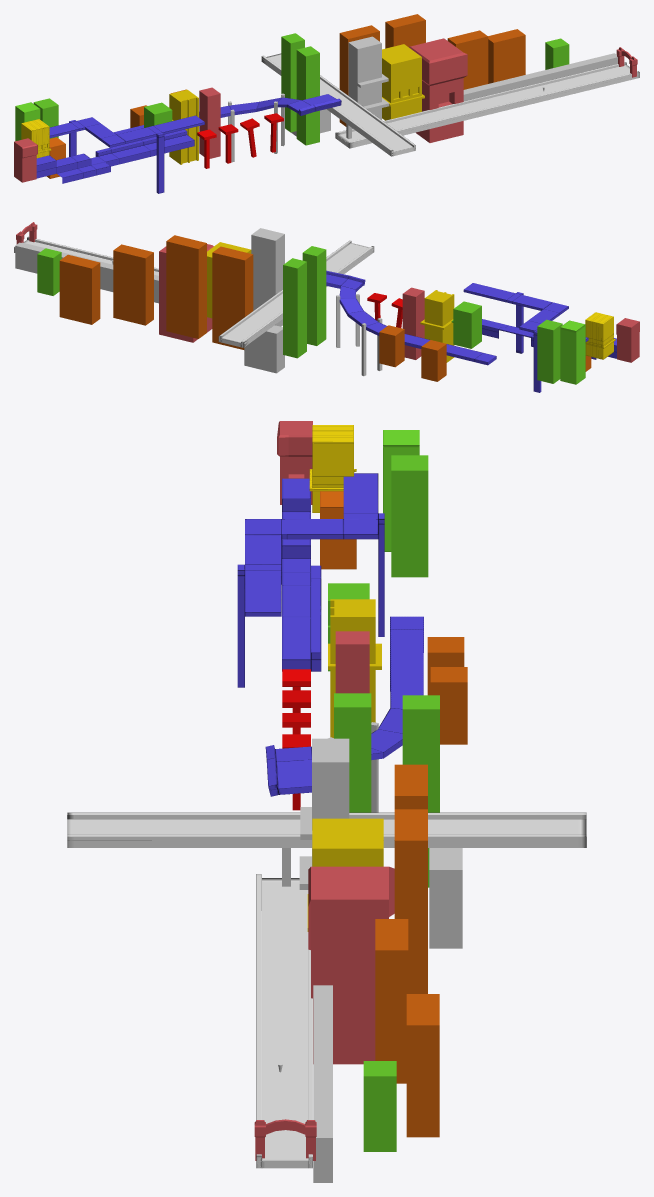
File: city stage.fbx
The picture shows the model from 3 angles, top to bottom: view 1: azimuth 30°, elevation 25°; view 2: azimuth 150°, elevation 25°; view 3: azimuth 270°, elevation 25°; orthographic projection. The views are drawn at different scales.
Visible parts, largest first — view 1: Cube.033, Cube.035, Cube, Cube.045, Cube.024, Cube.034, Cube.032, Cube.022, Cube.040, Cube.043, Cube.017, Cube.042 (+18 smaller); view 2: Cube.037, Cube.036, Cube.042, Cube.043, Cube.024, Cube.023, Cube.045, Cube.017, Cube.032, Cube.022, Cube.027, Cube.015 (+16 smaller); view 3: Cube.033, Cube.024, Cube.035, Cube.045, Cube.017, Cube, Cube.037, Cube.042, Cube.043, Cube.028, Cube.032, Cube.040 (+15 smaller).
Part boxes in pixels (left/top/right/bottom): Cube.033: left=335, top=62, right=639, bottom=148; Cube.035: left=408, top=38, right=467, bottom=142; Cube: left=36, top=129, right=194, bottom=183; Cube.045: left=49, top=115, right=204, bottom=193; Cube.024: left=261, top=53, right=415, bottom=156; Cube.034: left=382, top=44, right=424, bottom=120; Cube.032: left=348, top=36, right=389, bottom=128; Cube.022: left=296, top=46, right=319, bottom=145; Cube.040: left=463, top=53, right=617, bottom=101; Cube.043: left=488, top=29, right=525, bottom=83; Cube.017: left=113, top=94, right=341, bottom=134; Cube.042: left=447, top=30, right=488, bottom=89; Cube.037: left=166, top=235, right=206, bottom=338; Cube.036: left=212, top=246, right=253, bottom=349; Cube.042: left=113, top=244, right=153, bottom=325; Cube.043: left=59, top=254, right=100, bottom=324; Cube.024: left=218, top=240, right=374, bottom=347; Cube.023: left=283, top=258, right=306, bottom=358; Cube.045: left=463, top=283, right=588, bottom=392; Cube.017: left=326, top=270, right=496, bottom=365; Cube.032: left=251, top=228, right=284, bottom=326; Cube.022: left=302, top=246, right=326, bottom=345; Cube.027: left=560, top=320, right=585, bottom=384; Cube.015: left=420, top=290, right=454, bottom=362; Cube.033: left=256, top=874, right=312, bottom=1168; Cube.024: left=67, top=812, right=586, bottom=847; Cube.035: left=308, top=866, right=394, bottom=1064; Cube.045: left=237, top=473, right=384, bottom=687; Cube.017: left=265, top=616, right=423, bottom=796; Cube: left=281, top=478, right=321, bottom=671; Cube.037: left=394, top=809, right=427, bottom=993; Cube.042: left=375, top=919, right=408, bottom=1083; Cube.043: left=406, top=994, right=439, bottom=1137; Cube.028: left=391, top=455, right=428, bottom=577; Cube.032: left=299, top=738, right=349, bottom=889; Cube.040: left=313, top=985, right=332, bottom=1182.
Size of the model in its own units: 33475 by 5843 by 12306.
19 materials, 8 textured.
